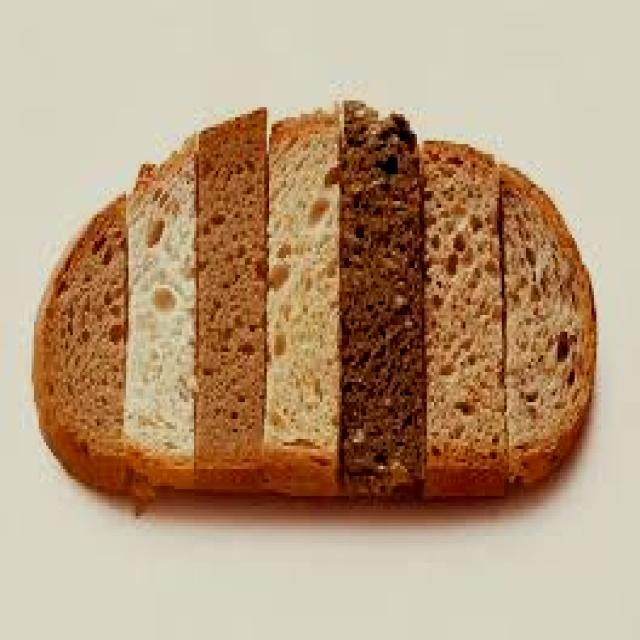organic: (42, 105, 594, 500)
